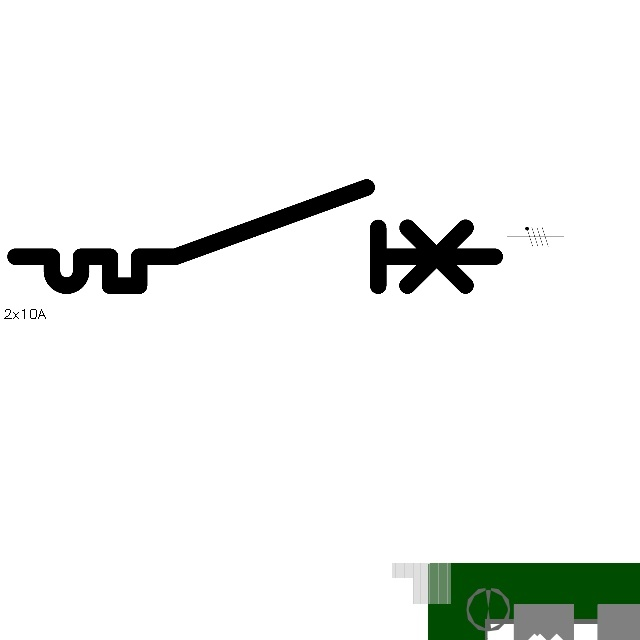interruptor_termomagnetico: (3, 175, 507, 298)
